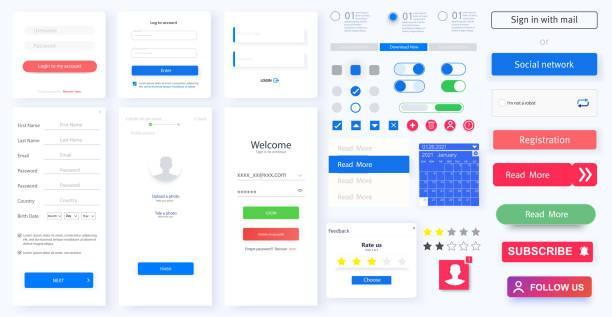button: (493, 91, 598, 118), (495, 164, 598, 188), (492, 54, 597, 76), (499, 206, 596, 226), (508, 277, 593, 299), (502, 243, 595, 263), (490, 12, 599, 29), (495, 132, 596, 149), (329, 156, 411, 174), (26, 273, 94, 289), (23, 61, 99, 74), (133, 66, 200, 78), (244, 229, 300, 242), (139, 263, 194, 276), (245, 208, 300, 220), (352, 276, 392, 286)
checkbox: (351, 86, 363, 98), (351, 103, 363, 114), (370, 66, 381, 77), (370, 88, 381, 99), (333, 103, 344, 114), (371, 103, 382, 114), (352, 65, 362, 77), (333, 66, 344, 76), (333, 87, 344, 97), (333, 121, 343, 132), (390, 122, 399, 132)
icon: (445, 120, 457, 133), (460, 225, 470, 240), (427, 121, 439, 133), (459, 241, 470, 253), (447, 241, 458, 253), (408, 121, 420, 132), (436, 226, 446, 239), (424, 226, 433, 240), (464, 121, 475, 132), (472, 241, 482, 252), (436, 242, 446, 253), (371, 121, 381, 132), (449, 226, 457, 239), (473, 226, 481, 239), (338, 257, 348, 267), (352, 257, 362, 267), (352, 122, 362, 132), (423, 243, 434, 252), (368, 258, 377, 267), (384, 257, 392, 267), (399, 258, 408, 266)
input: (234, 27, 305, 45), (234, 53, 305, 69), (23, 26, 97, 37), (22, 42, 98, 52), (132, 48, 198, 59), (131, 31, 199, 41)
label: (250, 141, 294, 156), (17, 136, 43, 146), (17, 212, 41, 221), (16, 198, 37, 207), (17, 168, 40, 176), (17, 123, 42, 130), (18, 183, 39, 190), (17, 151, 31, 161)
radio: (388, 12, 399, 24), (438, 12, 449, 23), (331, 12, 341, 23)
switch: (395, 63, 426, 77), (395, 80, 426, 94), (442, 63, 467, 77), (442, 81, 467, 94)
